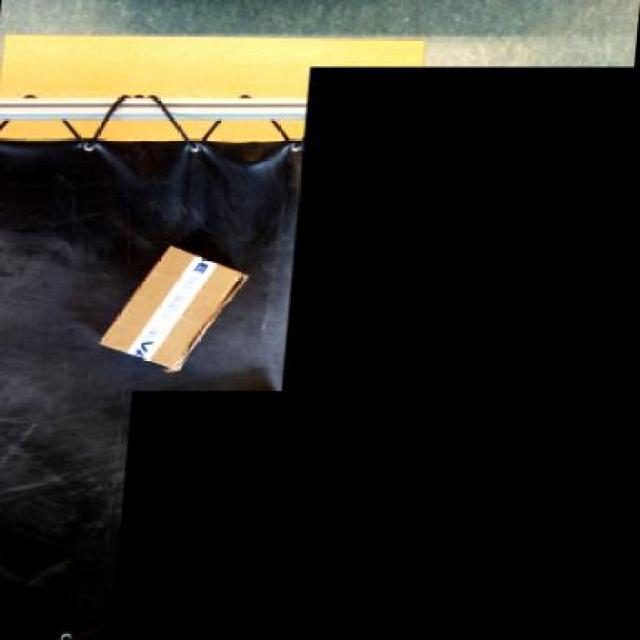box: (103, 246, 260, 372)
